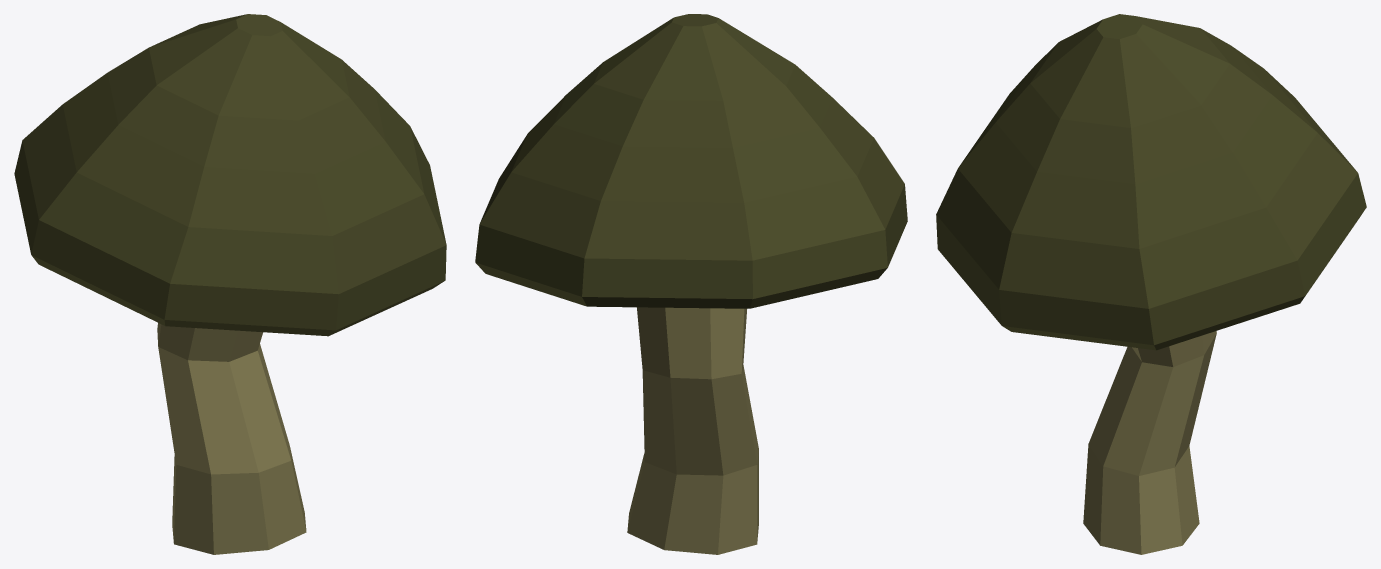
The model's file is mushroom.fbx.
3 renders of one model, left to right at view 1: azimuth 30°, elevation 25°; view 2: azimuth 150°, elevation 25°; view 3: azimuth 270°, elevation 25°, orthographic. The views are drawn at different scales.
Parts seen in each view (by area): view 1: Circle; view 2: Circle; view 3: Circle.
Part boxes in pixels (x1,y1,x2,y2): Circle: (14,14,446,554); Circle: (475,14,907,554); Circle: (936,14,1366,554).
Bounding box in the file's own units: 265 × 325 × 252.
